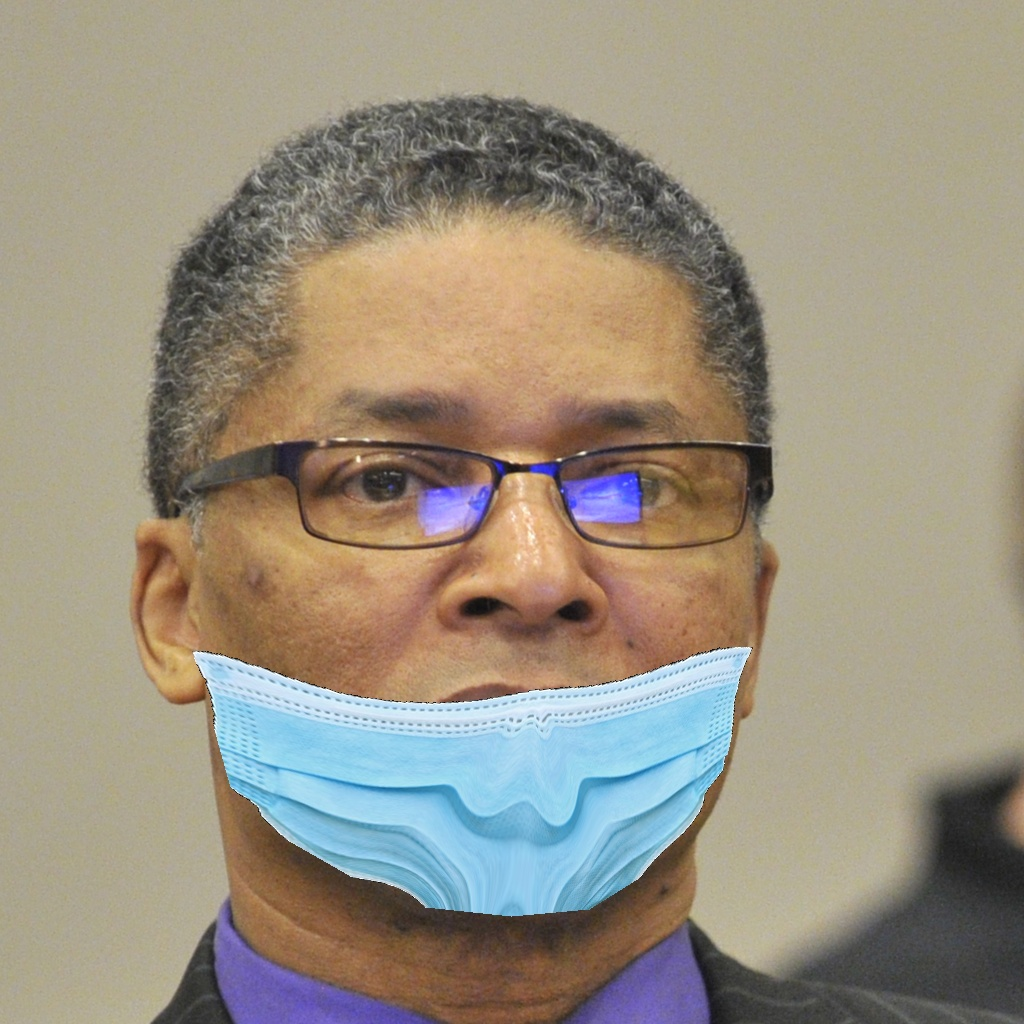mascarilla_mal_puesta: (126, 535, 858, 915)
